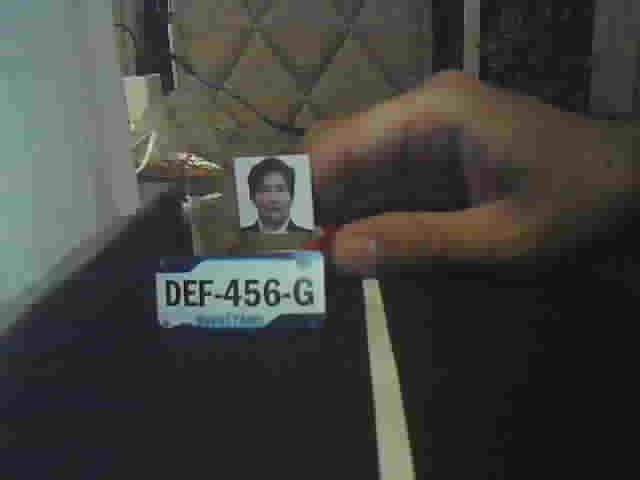PLACA: (154, 249, 330, 333)
ROSTRO: (237, 155, 312, 231)
